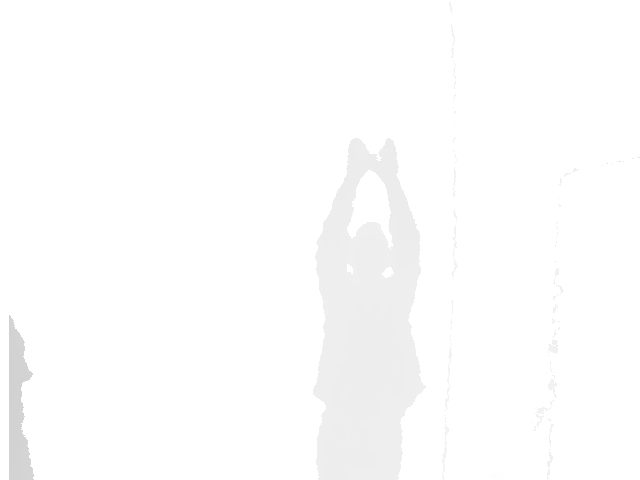hand: (347, 136, 378, 182), (373, 136, 400, 187)
head: (350, 221, 391, 284)
person: (312, 135, 426, 480)
